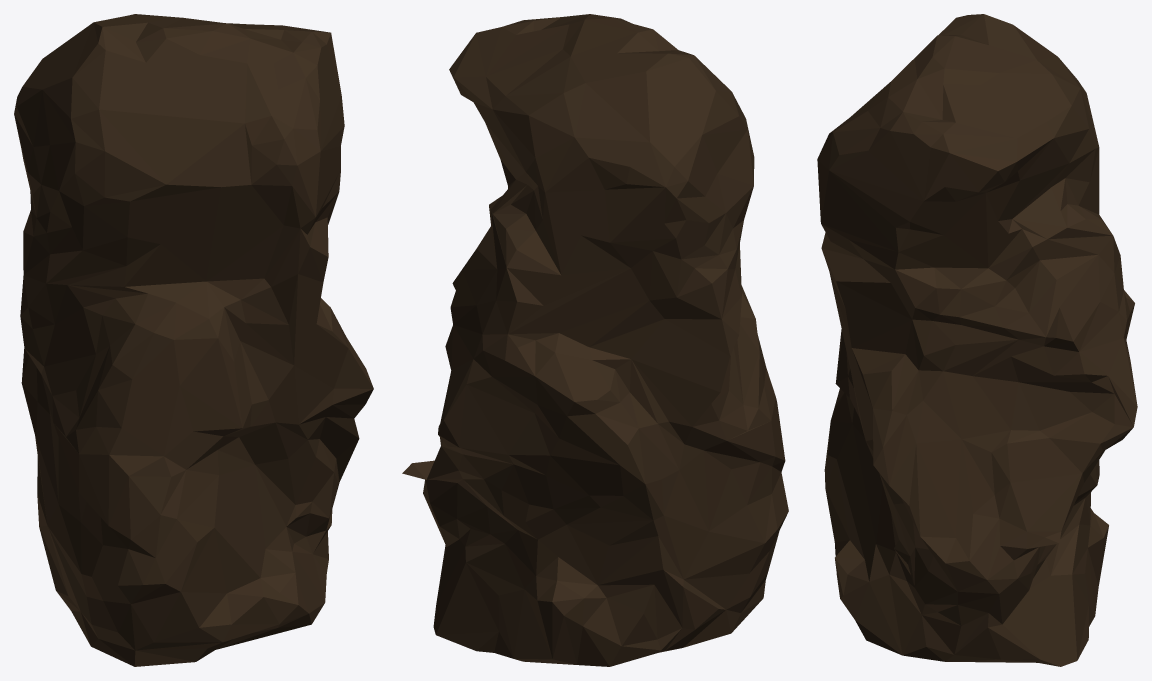
File: SM_cliff_07.FBX
The picture shows the model from 3 angles, left to right: view 1: azimuth 30°, elevation 25°; view 2: azimuth 150°, elevation 25°; view 3: azimuth 270°, elevation 25°; orthographic projection. The views are drawn at different scales.
Visible parts, largest first — view 1: Object025; view 2: Object025; view 3: Object025.
Boxes of the visible parts, x1,y1,x2,y2 form: Object025: [14, 14, 373, 666]; Object025: [402, 14, 788, 666]; Object025: [817, 14, 1137, 666].
Size of the model in its own units: 557 by 1050 by 535.
